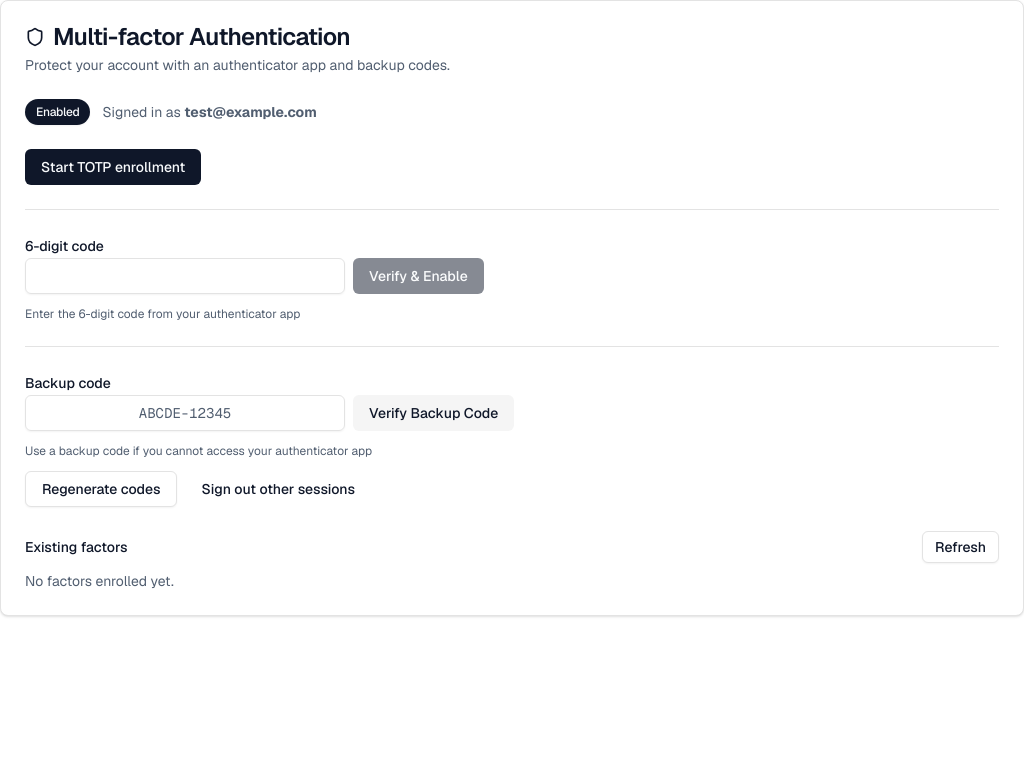
Scenario: MfaPanel › revokes other sessions
This screenshot has width=1024, height=768.
Click the button "Sign out other sessions" at coordinates (278, 489), box [185, 471, 371, 507]
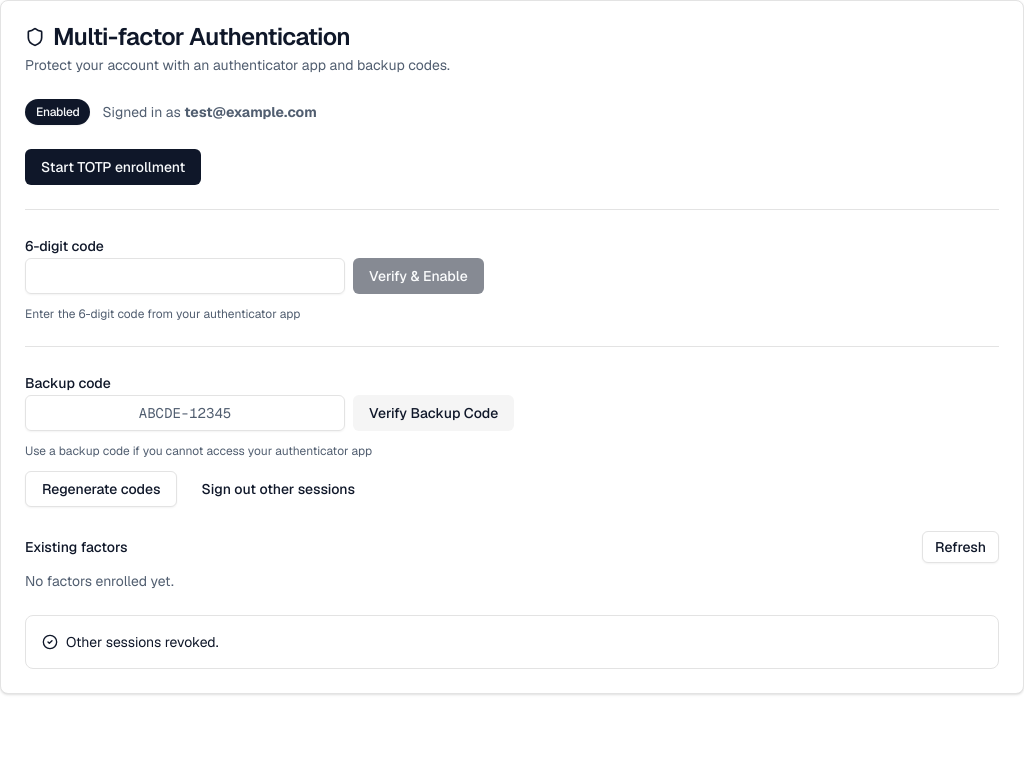
Now the text "Other sessions revoked." is shown, box [42, 633, 218, 651]
